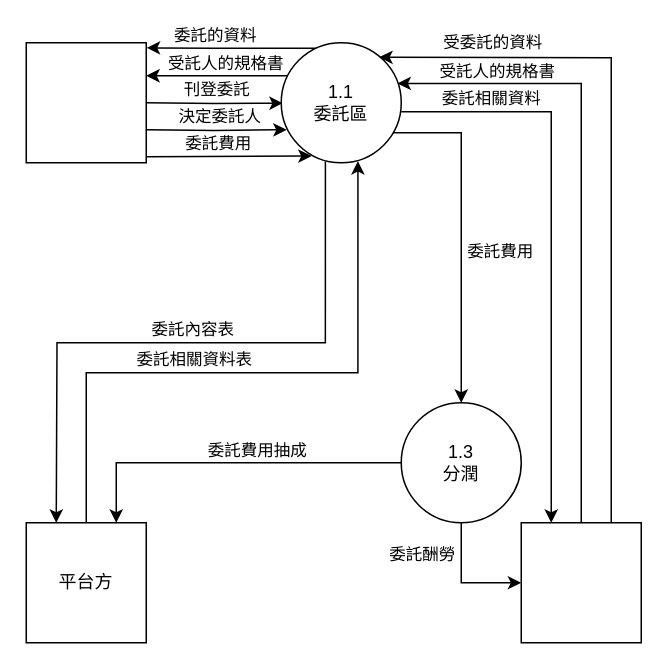
Some shapes in this 668 by 669 pixel diagram are drawn without their labels. The shapes that lost their labels are listed below. From the top down, each one's box as (x1, y1, x2, y2) in pixels, then its label:
(25, 41, 146, 163): 委託人
(520, 521, 641, 643): 受託人
